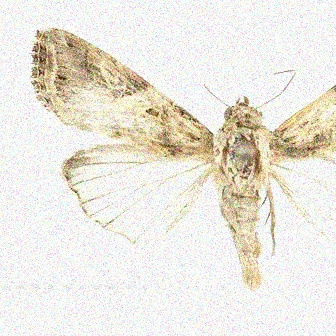Spodoptera litura: (29, 27, 335, 293)
